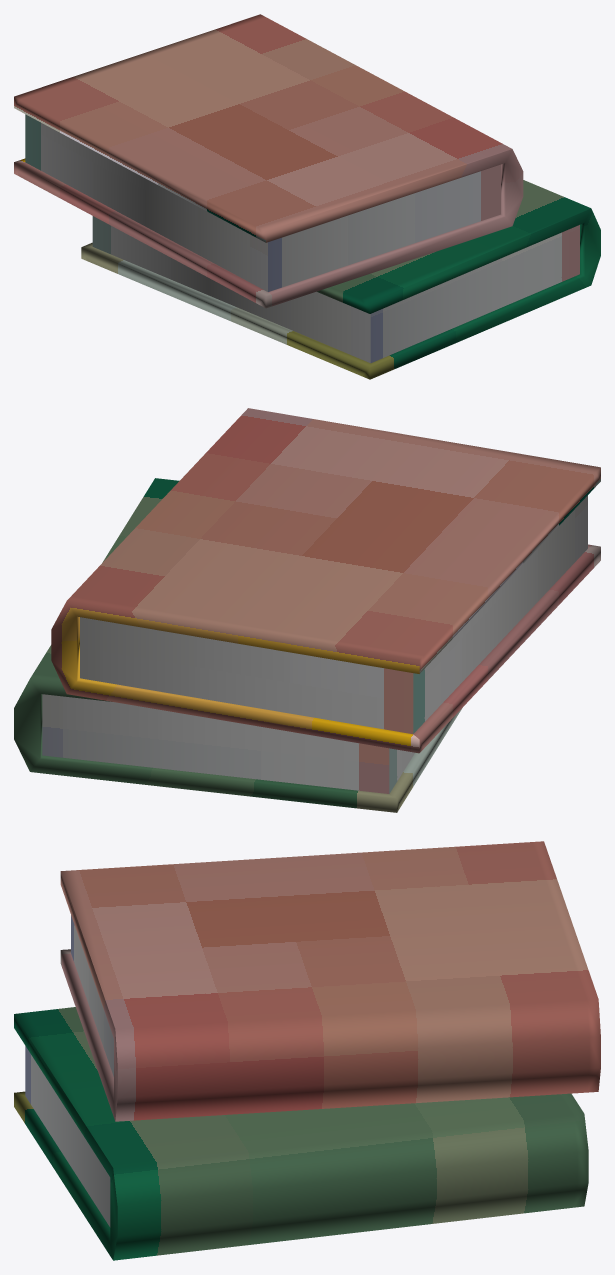
Rendered from a_sch_entrance01_obj_book02.gltf.
The picture shows the model from 3 angles, top to bottom: view 1: azimuth 30°, elevation 25°; view 2: azimuth 150°, elevation 25°; view 3: azimuth 270°, elevation 25°; orthographic projection. The views are drawn at different scales.
Visible parts, largest first — view 1: a_sch_entrance01_obj_book02_mesh_shape:a_sch_office01_shelfb; view 2: a_sch_entrance01_obj_book02_mesh_shape:a_sch_office01_shelfb; view 3: a_sch_entrance01_obj_book02_mesh_shape:a_sch_office01_shelfb.
Boxes of the visible parts, x1,y1,x2,y2 form: a_sch_entrance01_obj_book02_mesh_shape:a_sch_office01_shelfb: (14,14,600,379); a_sch_entrance01_obj_book02_mesh_shape:a_sch_office01_shelfb: (14,408,600,812); a_sch_entrance01_obj_book02_mesh_shape:a_sch_office01_shelfb: (14,841,600,1260).
Bounding box in the file's own units: 0.3173 × 0.1146 × 0.3278.
1 material, 1 textured.
